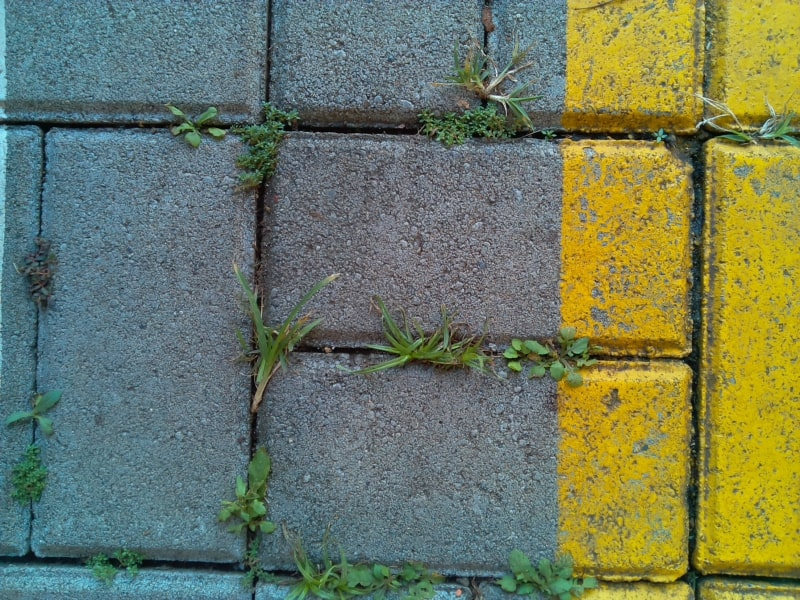Weed: (236, 272, 320, 411), (369, 301, 492, 385), (451, 48, 539, 113), (495, 547, 599, 600), (220, 453, 278, 538), (505, 330, 593, 386), (236, 104, 291, 189), (415, 107, 512, 147), (360, 557, 442, 600), (714, 108, 793, 151), (162, 99, 227, 150), (19, 239, 64, 312), (288, 554, 357, 599), (5, 391, 62, 437), (81, 546, 147, 584), (8, 444, 49, 503), (243, 539, 275, 594), (536, 123, 566, 147), (648, 126, 671, 147)
